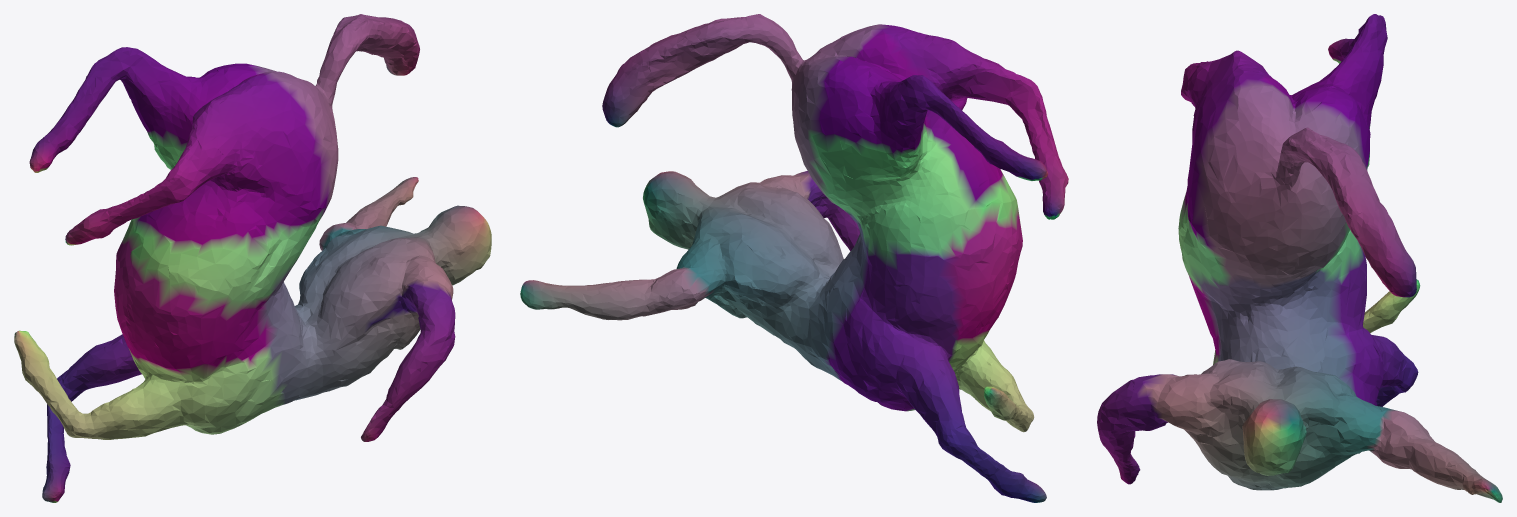
File: centaur-15.off.obj
3 renders of one model, left to right at view 1: azimuth 30°, elevation 25°; view 2: azimuth 150°, elevation 25°; view 3: azimuth 270°, elevation 25°, orthographic. The views are drawn at different scales.
Size of the model in its own units: 1.33 by 1.16 by 0.912.
